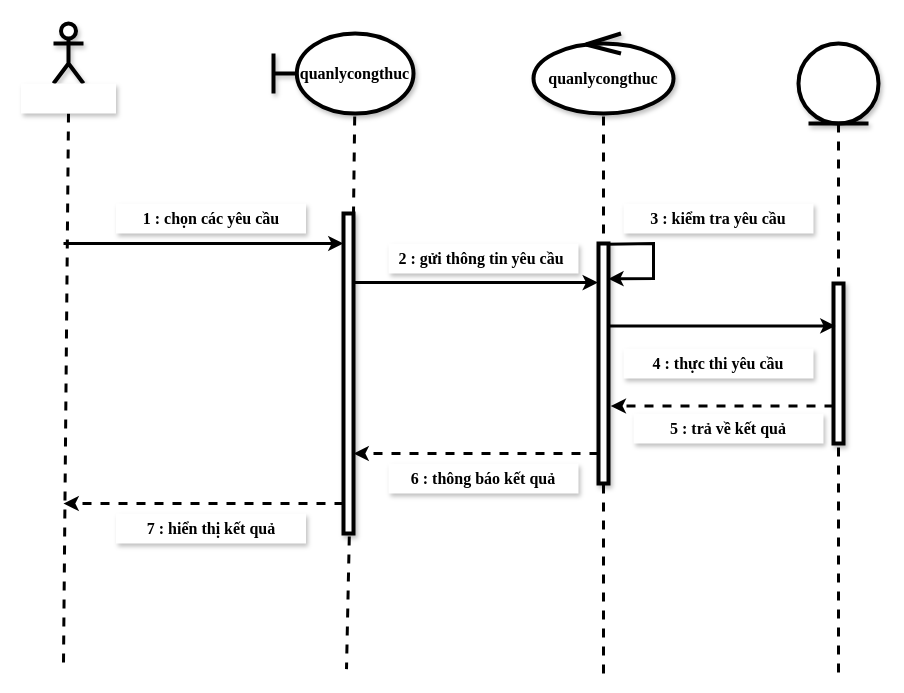
The diagram is 904 pixels wide and 693 high, and some of its shapes have lost their labels. Each missing label, with the centre of its shape:
Actor: (x=69, y=54)
admin: (x=69, y=99)
csdl: (x=839, y=84)
